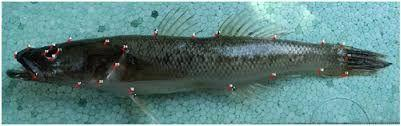Goby: (9, 7, 392, 126)
